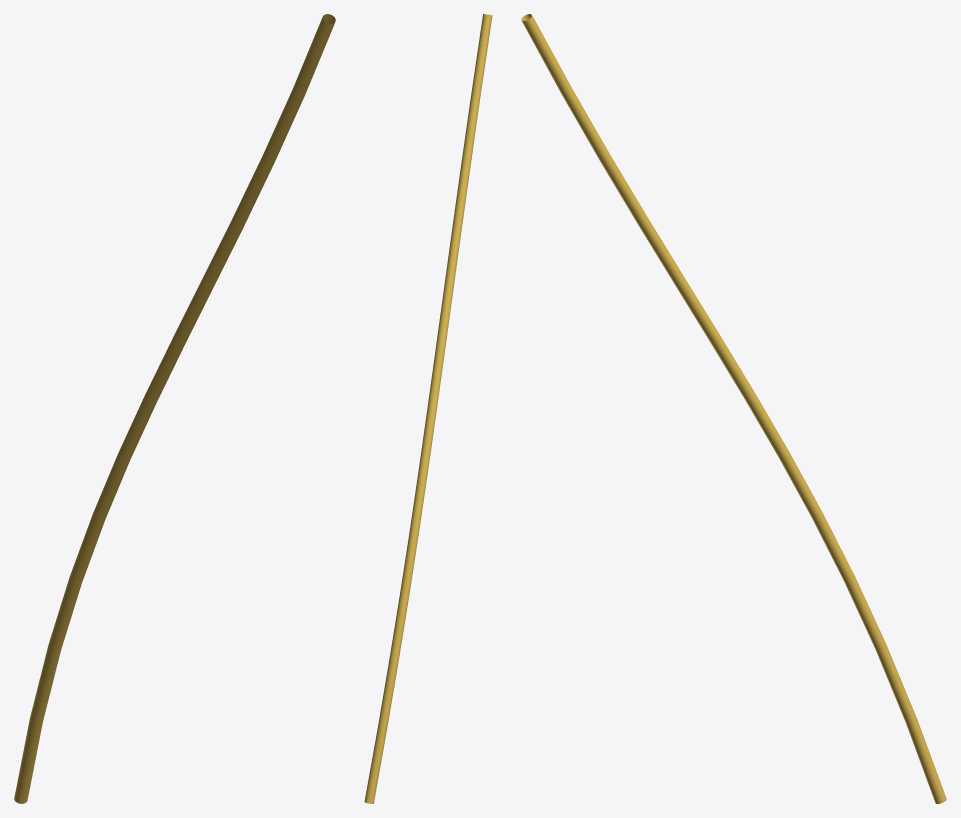
The model's file is Medial_sural_cutaneous_nerve_left.glb.
3 renders of one model, left to right at view 1: azimuth 30°, elevation 25°; view 2: azimuth 150°, elevation 25°; view 3: azimuth 270°, elevation 25°, orthographic. The views are drawn at different scales.
Parts seen in each view (by area): view 1: Medial_sural_cutaneous_nerve.l_BezierCurve.506; view 2: Medial_sural_cutaneous_nerve.l_BezierCurve.506; view 3: Medial_sural_cutaneous_nerve.l_BezierCurve.506.
Part boxes in pixels (<box>): Medial_sural_cutaneous_nerve.l_BezierCurve.506: <box>14,14,335,803</box>; Medial_sural_cutaneous_nerve.l_BezierCurve.506: <box>364,14,492,803</box>; Medial_sural_cutaneous_nerve.l_BezierCurve.506: <box>521,14,946,803</box>.
Size of the model in its own units: 0.00685 by 0.0749 by 0.0354.
